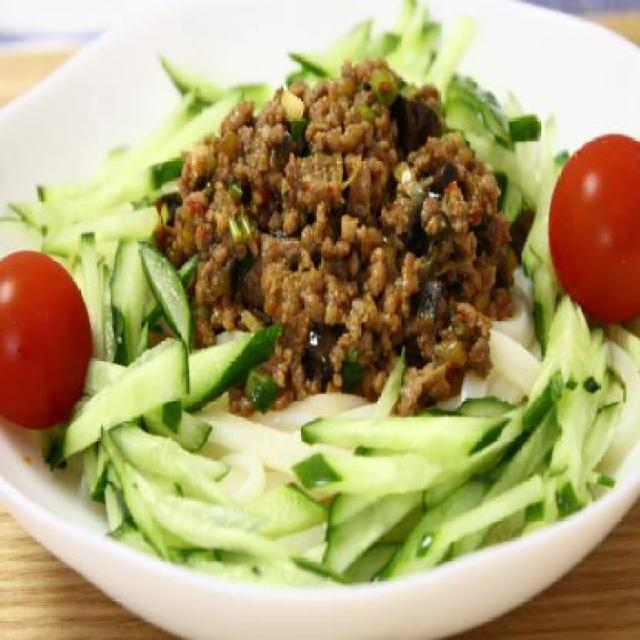Zucchini: (0, 0, 640, 615)
